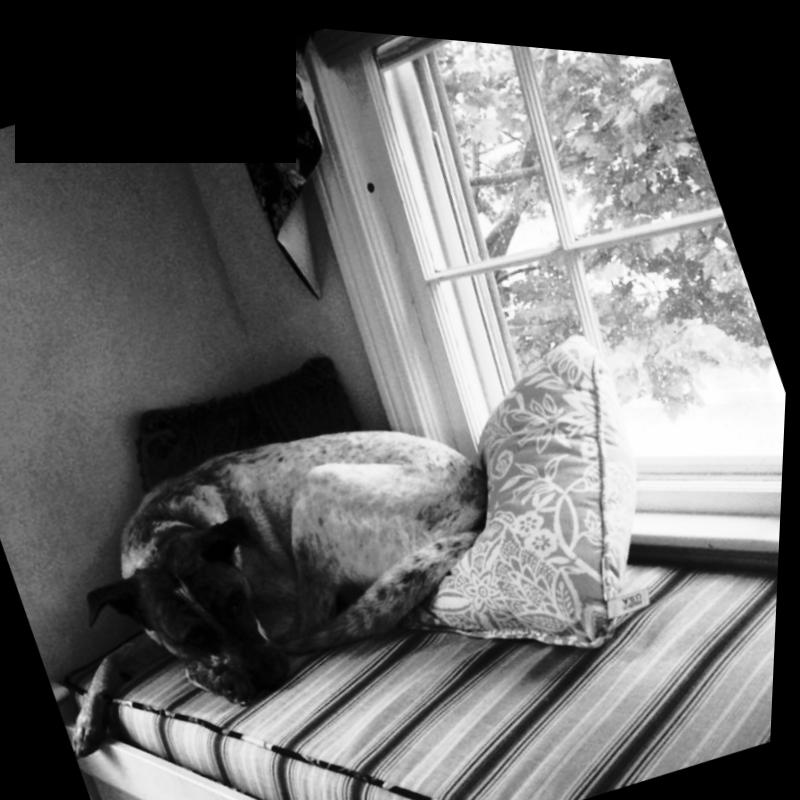pillow: (355, 281, 723, 698)
